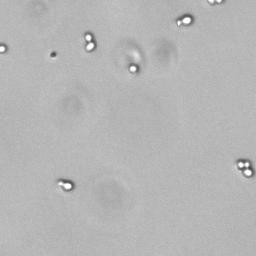budding: (174, 10, 195, 33), (235, 159, 255, 180), (54, 177, 77, 195), (81, 31, 97, 54)
individual: (126, 63, 142, 76), (1, 42, 8, 55)
